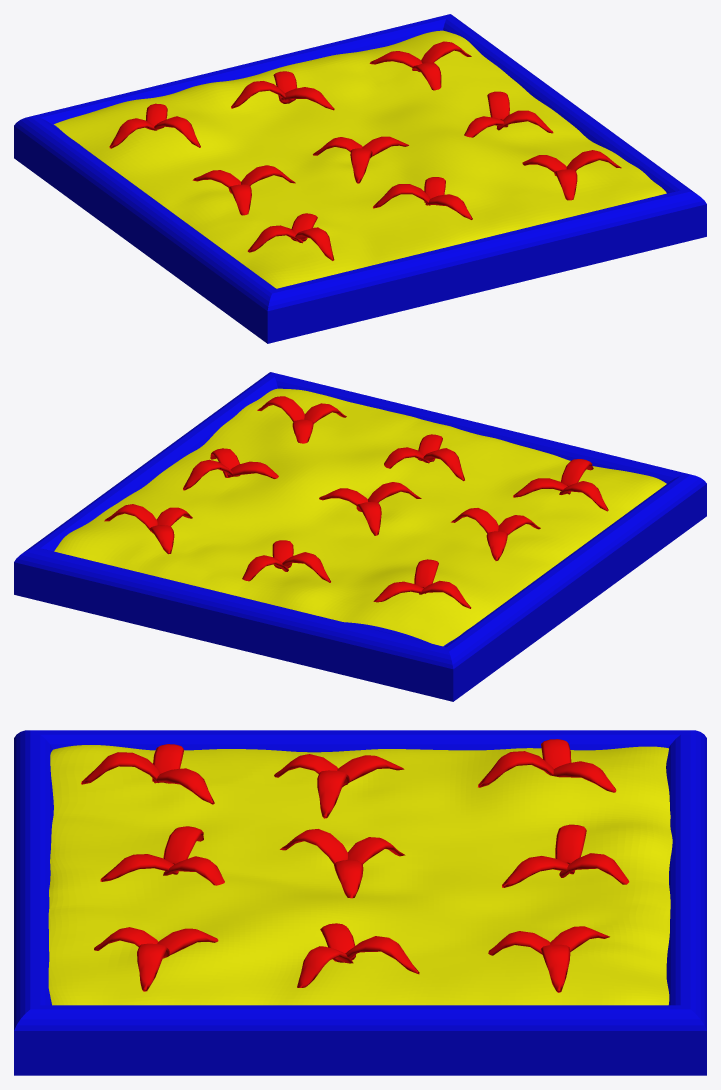
The model's file is Stage_3.fbx.
3 views of the same model, one above another, from view 1: azimuth 30°, elevation 25°; view 2: azimuth 150°, elevation 25°; view 3: azimuth 270°, elevation 25° (orthographic). The views are drawn at different scales.
Visible parts, largest first — view 1: pasted__pasted__Bed_HPdirt, pasted__pasted__baseBed_HP, Leaf_3 (×9), Leaf_2 (×3), Leaf_1 (×2); view 2: pasted__pasted__Bed_HPdirt, pasted__pasted__baseBed_HP, Leaf_3 (×9), Leaf_2 (×4), Leaf_1 (×2); view 3: pasted__pasted__Bed_HPdirt, pasted__pasted__baseBed_HP, Leaf_3 (×9), Leaf_1 (×9), Leaf_2 (×9).
Part boxes in pixels (x1,y1,x2,y2): pasted__pasted__Bed_HPdirt: (54,30,666,288); pasted__pasted__baseBed_HP: (14,14,706,343); Leaf_3 (×9): (154,41,621,260); Leaf_2 (×3): (109,110,553,252); Leaf_1 (×2): (281,87,472,219); pasted__pasted__Bed_HPdirt: (54,388,666,646); pasted__pasted__baseBed_HP: (14,372,706,701); Leaf_3 (×9): (104,396,593,587); Leaf_2 (×4): (242,481,608,608); Leaf_1 (×2): (227,461,570,497); pasted__pasted__Bed_HPdirt: (48,745,672,1005); pasted__pasted__baseBed_HP: (14,730,706,1075); Leaf_3 (×9): (81,751,586,992); Leaf_1 (×9): (100,755,616,962); Leaf_2 (×9): (94,739,629,987).
Bounding box in the file's own units: 4.24 × 0.6129 × 4.24.
